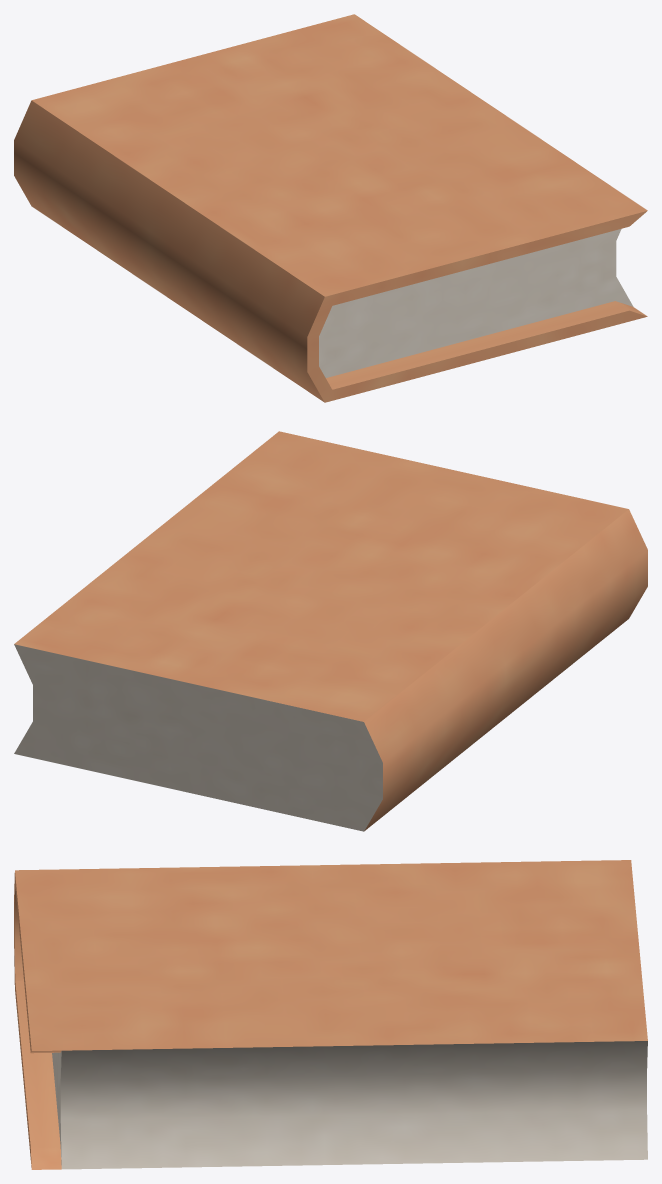
File: SM_Book_02.fbx
3 renders of one model, top to bottom at view 1: azimuth 30°, elevation 25°; view 2: azimuth 150°, elevation 25°; view 3: azimuth 270°, elevation 25°, orthographic. The views are drawn at different scales.
Visible parts, largest first — view 1: SM_Book_02; view 2: SM_Book_02; view 3: SM_Book_02.
Part boxes in pixels (left/top/right/bottom): SM_Book_02: left=14, top=14, right=647, bottom=402; SM_Book_02: left=14, top=431, right=647, bottom=831; SM_Book_02: left=14, top=860, right=647, bottom=1169.
Size of the model in its own units: 37.63 by 10.38 by 50.18.
